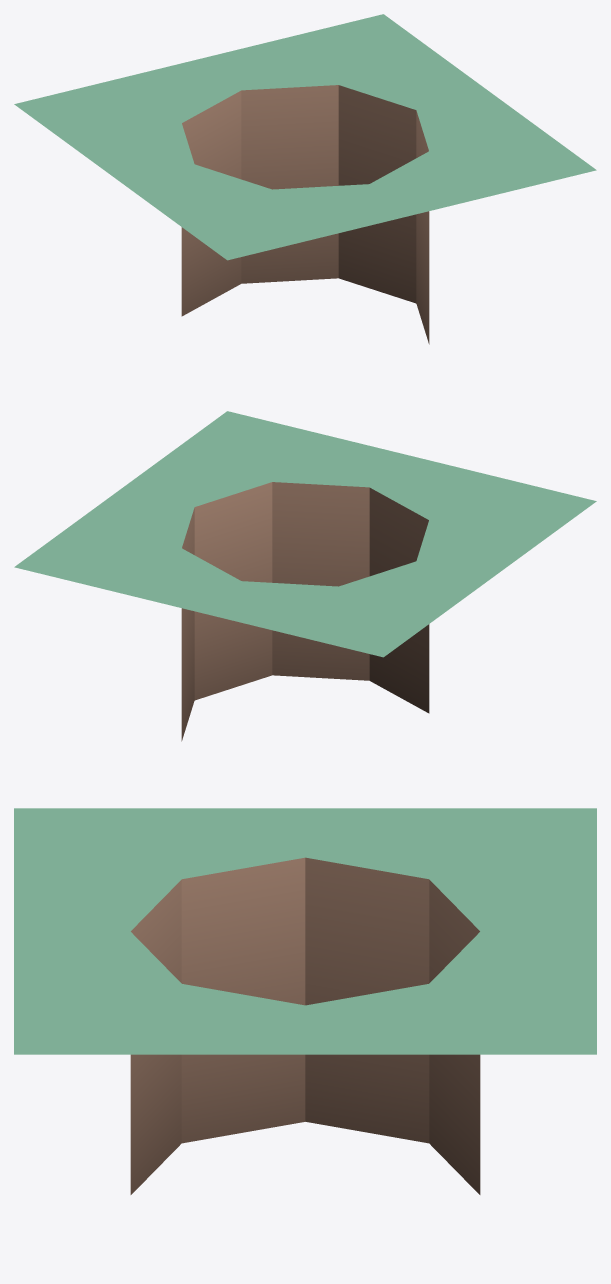
File: hole.glb
3 views of the same model, one above another, from view 1: azimuth 30°, elevation 25°; view 2: azimuth 150°, elevation 25°; view 3: azimuth 270°, elevation 25° (orthographic). The views are drawn at different scales.
Parts seen in each view (by area): view 1: hole; view 2: hole; view 3: hole.
Part boxes in pixels (x1,y1,x2,y2): hole: (14,14,596,344); hole: (14,411,596,741); hole: (14,808,596,1194).
Size of the model in its own units: 1 by 0.5 by 1.
